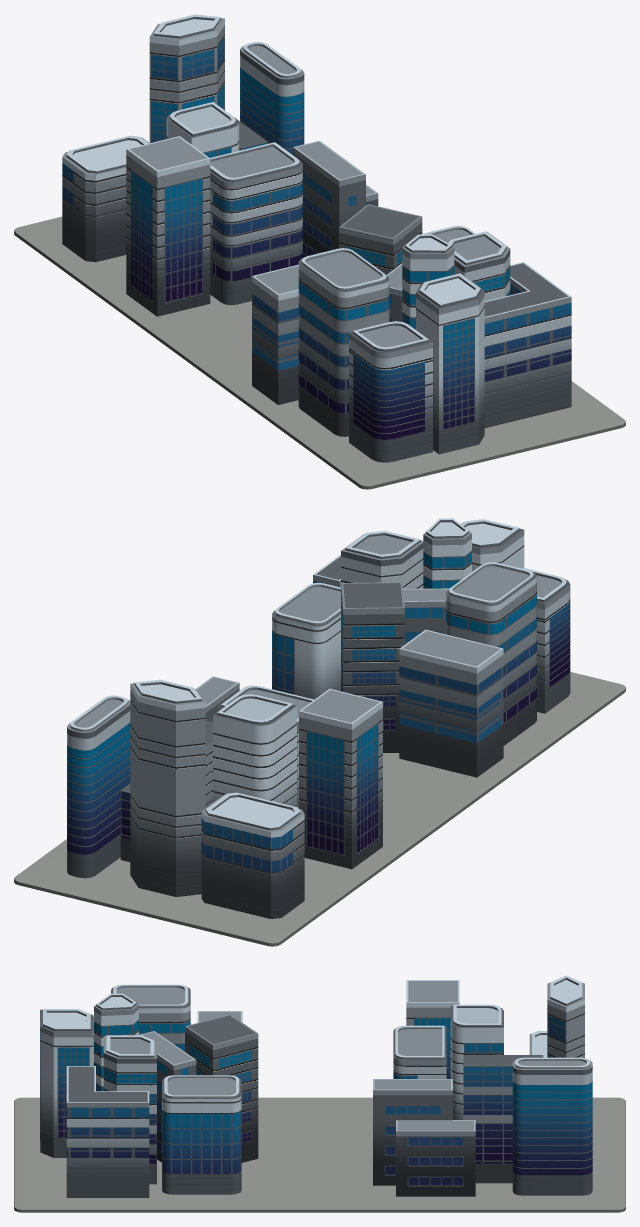
The model's file is Block_SE_Long.glb.
3 views of the same model, one above another, from view 1: azimuth 30°, elevation 25°; view 2: azimuth 150°, elevation 25°; view 3: azimuth 270°, elevation 25° (orthographic). The views are drawn at different scales.
Visible parts, largest first — view 1: Sidewalk.001, Building43, Building44, Building58, Building54, Building53, Building52, Building46, Building47, Building56, Building49, Building50 (+5 smaller); view 2: Sidewalk.001, Building47, Building43, Building56, Building46, Building49, Building54, Building45, Building57, Building42, Building53, Building59 (+6 smaller); view 3: Sidewalk.001, Building49, Building58, Building42, Building60, Building48, Building52, Building57, Building50, Building59, Building45, Building54 (+7 smaller).
Boxes of the visible parts, bbox=[...] form: Sidewalk.001: bbox=[14, 216, 625, 489]; Building43: bbox=[126, 136, 210, 316]; Building44: bbox=[210, 142, 302, 305]; Building58: bbox=[484, 262, 571, 427]; Building54: bbox=[298, 248, 389, 436]; Building53: bbox=[349, 321, 432, 462]; Building52: bbox=[416, 273, 484, 454]; Building46: bbox=[62, 135, 149, 262]; Building47: bbox=[149, 14, 224, 143]; Building56: bbox=[252, 264, 298, 404]; Building49: bbox=[240, 41, 304, 154]; Building50: bbox=[293, 140, 365, 257]; Sidewalk.001: bbox=[14, 672, 625, 946]; Building47: bbox=[130, 679, 205, 896]; Building43: bbox=[299, 688, 382, 869]; Building56: bbox=[399, 629, 503, 777]; Building46: bbox=[201, 792, 304, 918]; Building49: bbox=[67, 695, 130, 878]; Building54: bbox=[446, 562, 536, 745]; Building45: bbox=[213, 694, 296, 806]; Building57: bbox=[341, 582, 404, 752]; Building42: bbox=[272, 582, 340, 699]; Building53: bbox=[522, 568, 570, 713]; Building59: bbox=[341, 531, 423, 588]; Sidewalk.001: bbox=[14, 1097, 625, 1212]; Building49: bbox=[512, 1057, 592, 1195]; Building58: bbox=[66, 1066, 149, 1197]; Building42: bbox=[162, 1075, 241, 1194]; Building60: bbox=[396, 1120, 475, 1196]; Building48: bbox=[463, 1055, 543, 1183]; Building52: bbox=[40, 1009, 93, 1157]; Building57: bbox=[185, 1014, 258, 1162]; Building50: bbox=[373, 1079, 452, 1185]; Building59: bbox=[103, 1035, 156, 1184]; Building45: bbox=[450, 1004, 503, 1119]; Building54: bbox=[111, 984, 190, 1051].
Bounding box in the file's own units: 39.88 × 28.33 × 91.93.
1 material, 1 textured.
